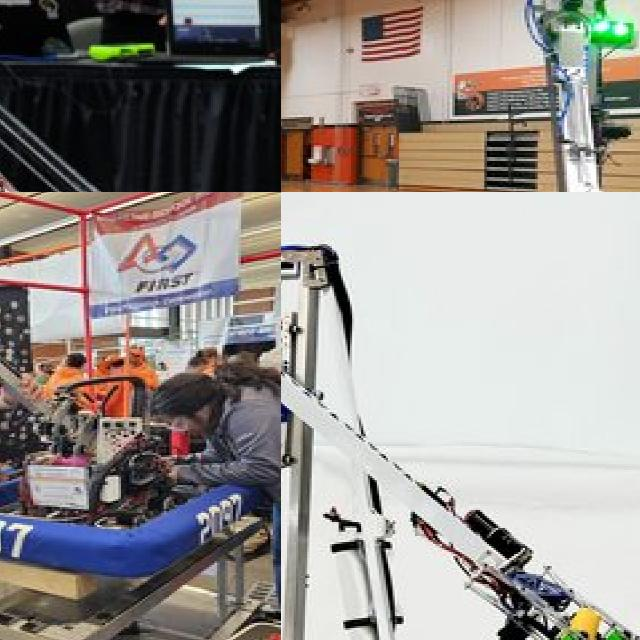FRC-Robots: (281, 208, 640, 640), (0, 250, 281, 572), (368, 0, 640, 192), (0, 28, 271, 192)
